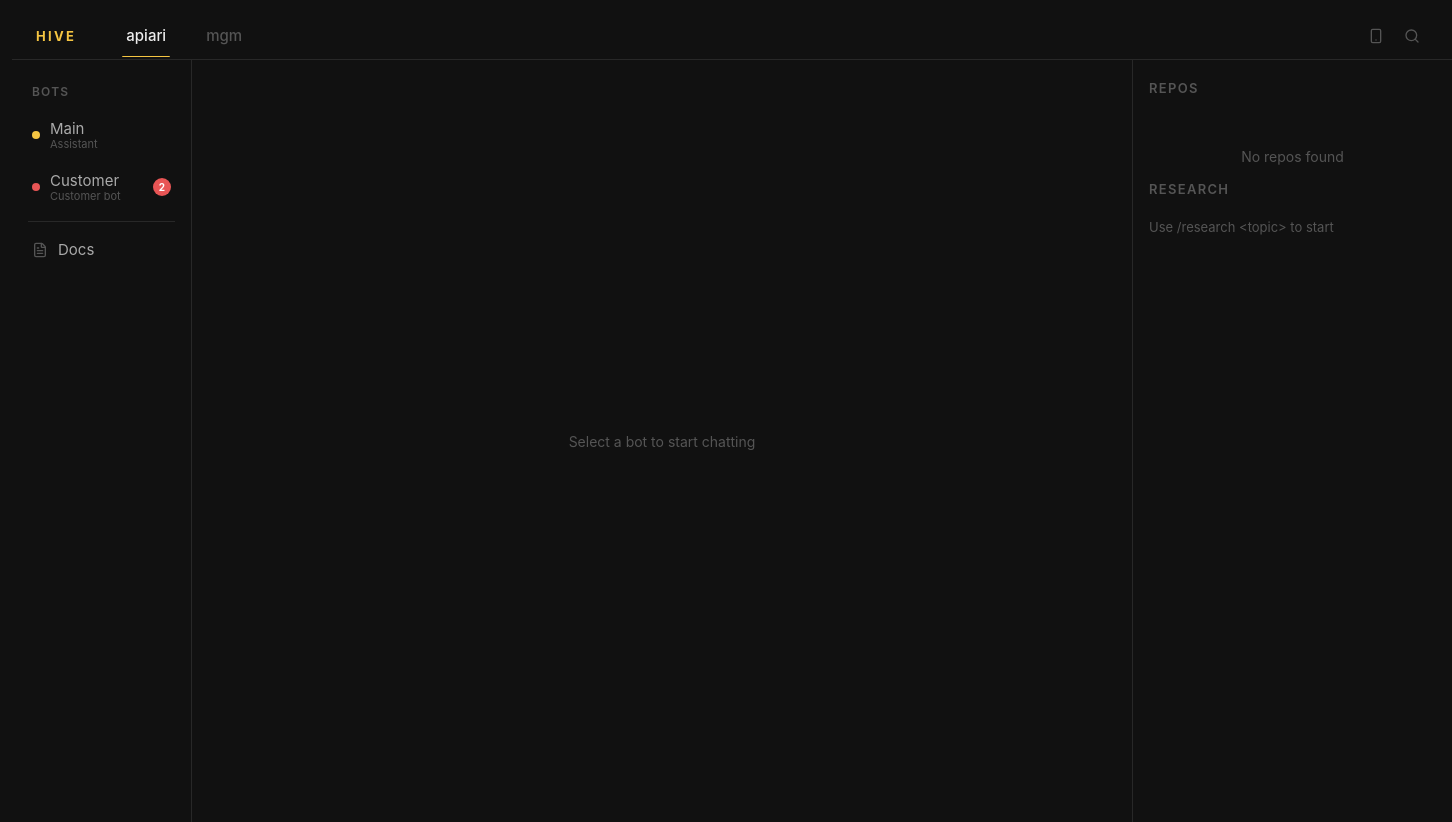
Test: App › renders chat messages
Click the text "Main".
click(67, 128)  # box [50,119,84,138]
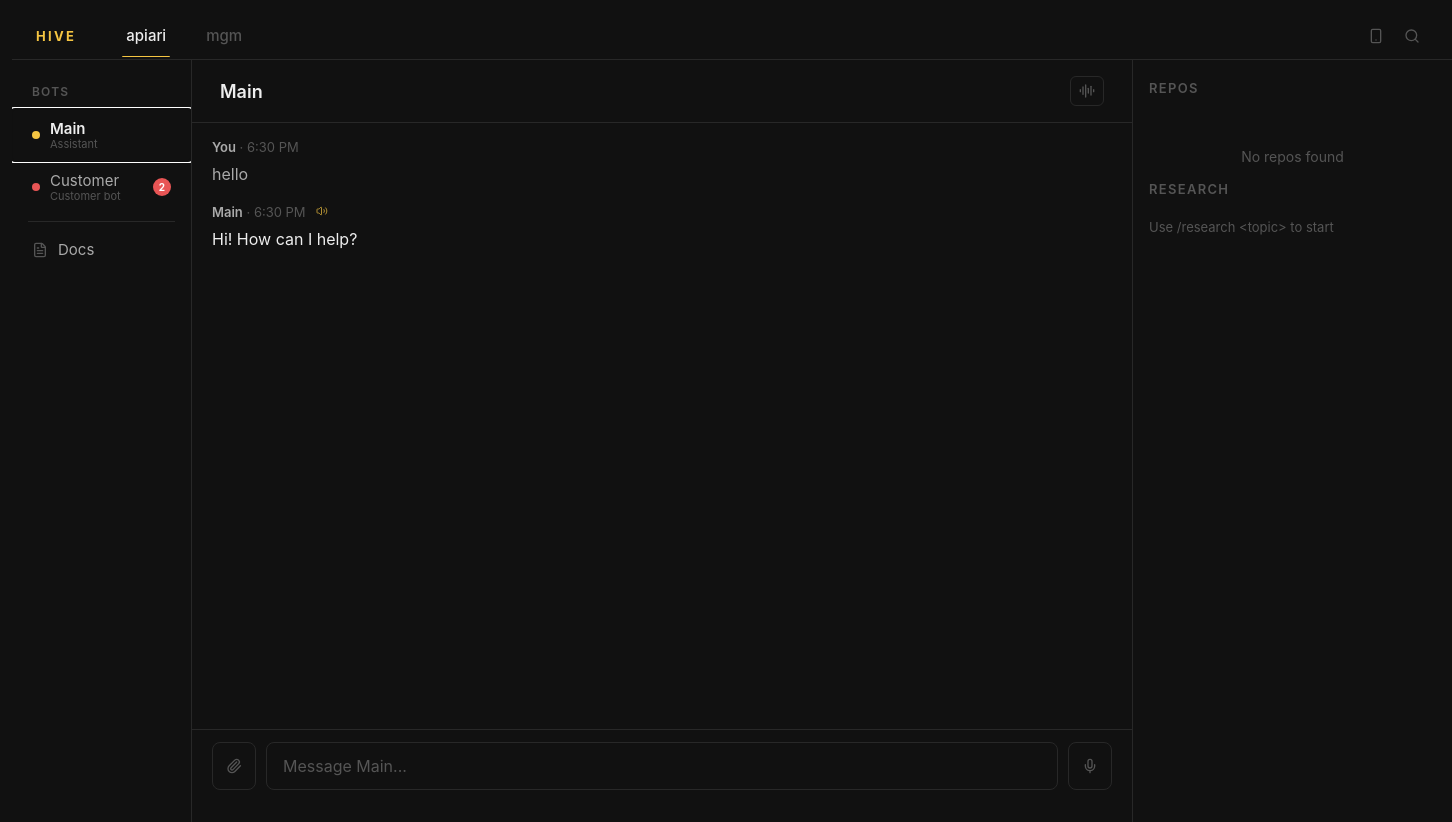
Check: the text "hello" is shown, box [212,164,248,184]
Check: the text "Hi! How can I help?" is shown, box [212,229,357,249]
